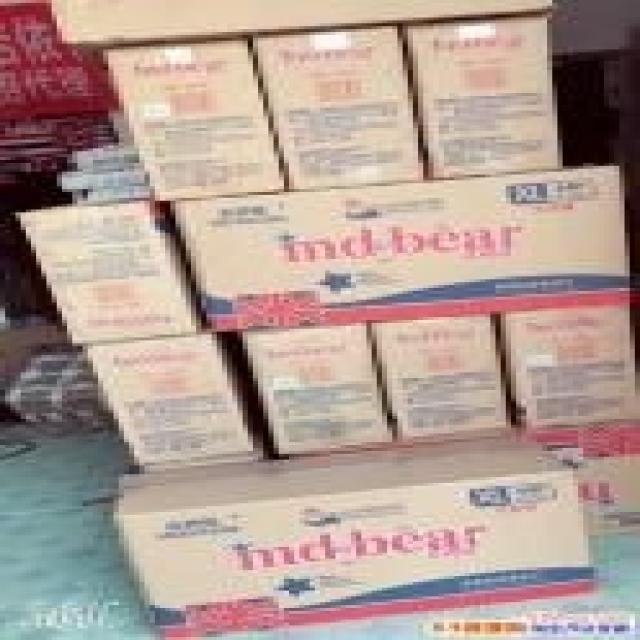Carton: (175, 15, 625, 448), (108, 433, 588, 637), (15, 204, 248, 465), (98, 41, 274, 204)
